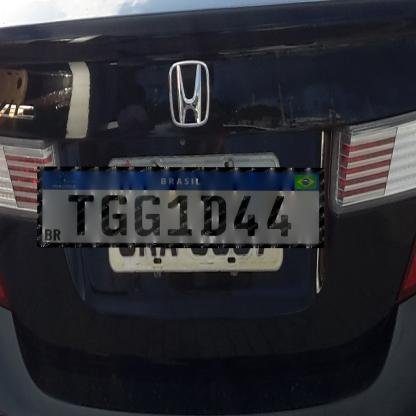PlacaM: (37, 167, 324, 248)
